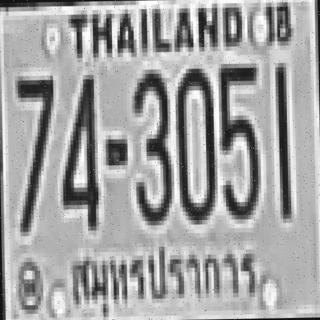N00: (175, 64, 215, 220)
N01: (274, 60, 290, 216)
N03: (131, 69, 172, 221)
N04: (58, 70, 99, 227)
N05: (218, 61, 259, 218)
N07: (15, 73, 55, 230)
P57: (68, 238, 256, 320)
